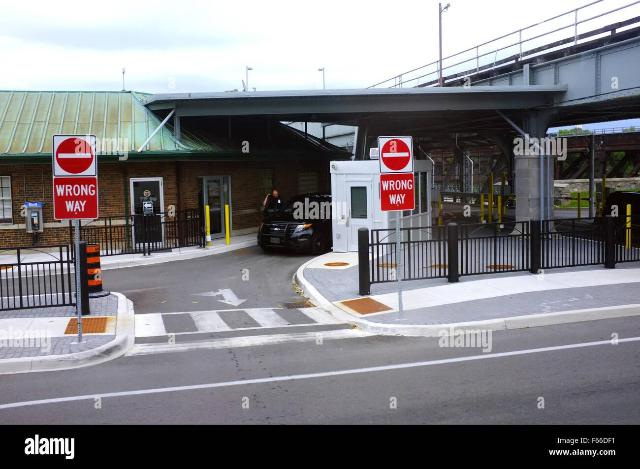B2: (377, 135, 413, 173), (59, 136, 95, 174)
